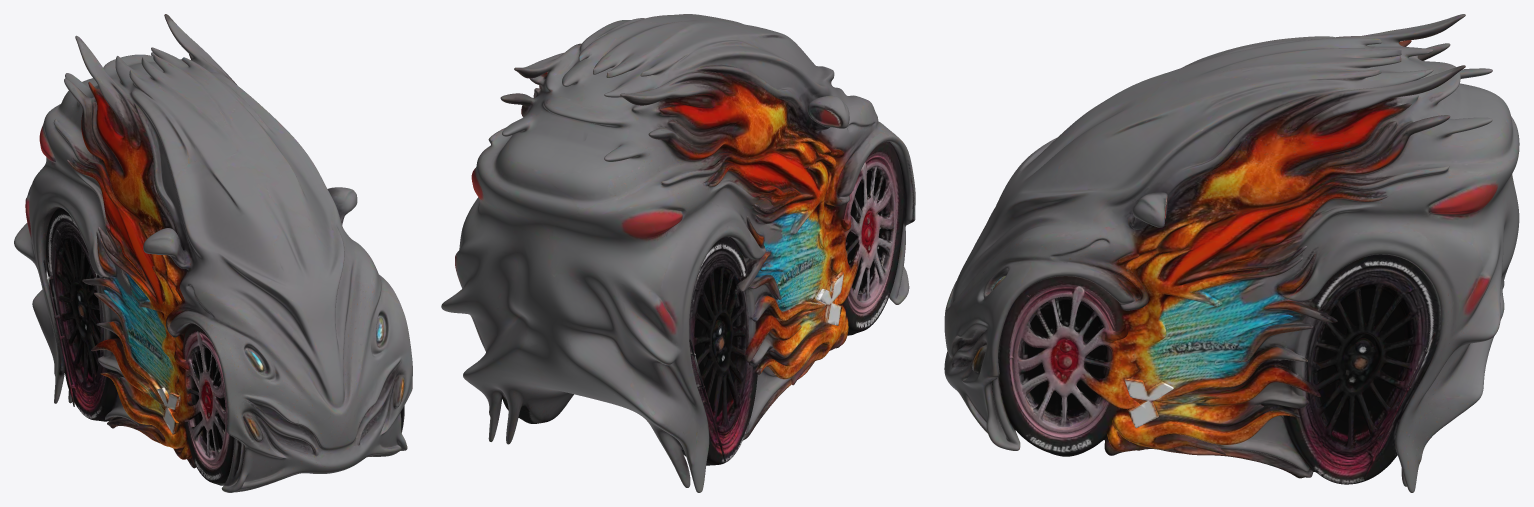
Rendered from squishy.glb.
The picture shows the model from 3 angles, left to right: view 1: azimuth 30°, elevation 25°; view 2: azimuth 150°, elevation 25°; view 3: azimuth 270°, elevation 25°; orthographic projection. The views are drawn at different scales.
Visible parts, largest first — view 1: node_0; view 2: node_0; view 3: node_0.
Boxes of the visible parts, x1,y1,x2,y2 form: node_0: (14, 14, 412, 492); node_0: (441, 14, 915, 492); node_0: (944, 14, 1519, 492).
Bounding box in the file's own units: 0.5301 × 0.8156 × 1.05.
Materials: 1 (1 with a texture image).
